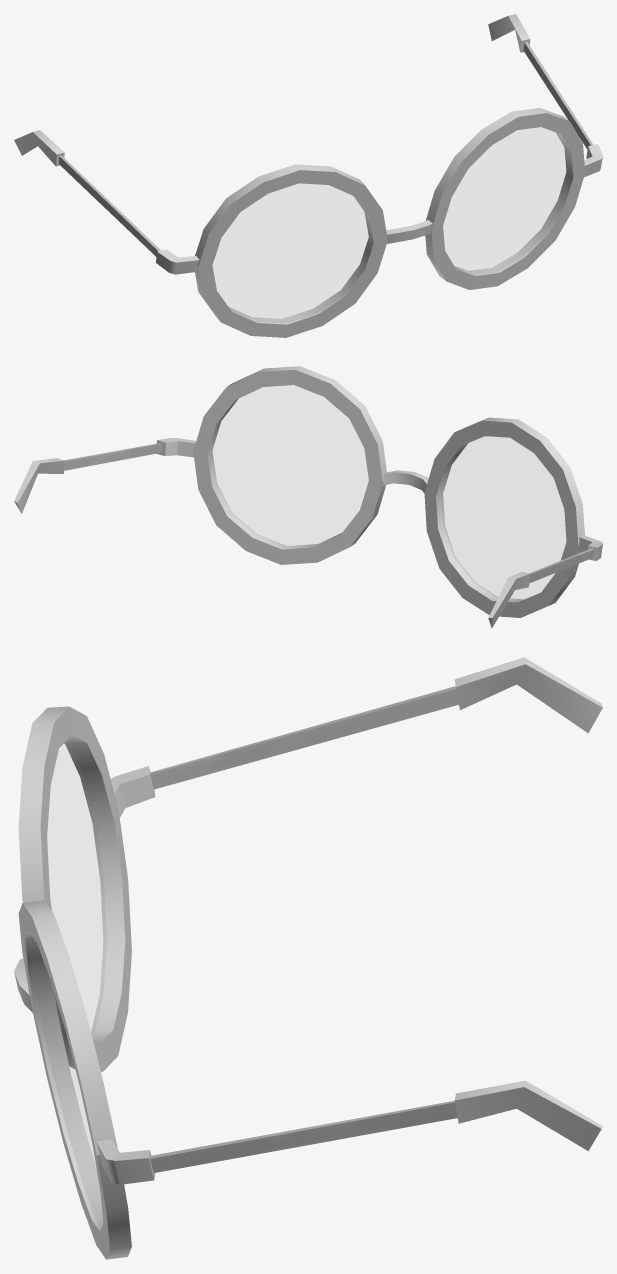
Rendered from p0_eyw0002_00_eyw00.gltf.
3 renders of one model, top to bottom at view 1: azimuth 30°, elevation 25°; view 2: azimuth 150°, elevation 25°; view 3: azimuth 270°, elevation 25°, orthographic. The views are drawn at different scales.
Visible parts, largest first — view 1: eyw00_glass_mesh_shape:eyewear, eyw00_temple_mesh_shape:eyewear; view 2: eyw00_glass_mesh_shape:eyewear, eyw00_temple_mesh_shape:eyewear; view 3: eyw00_glass_mesh_shape:eyewear, eyw00_temple_mesh_shape:eyewear.
Boxes of the visible parts, box(x1,y1,x2,y2) form: eyw00_glass_mesh_shape:eyewear: box(156, 108, 602, 337); eyw00_temple_mesh_shape:eyewear: box(14, 14, 593, 256); eyw00_glass_mesh_shape:eyewear: box(156, 366, 602, 617); eyw00_temple_mesh_shape:eyewear: box(14, 443, 594, 628); eyw00_glass_mesh_shape:eyewear: box(14, 706, 155, 1259); eyw00_temple_mesh_shape:eyewear: box(150, 657, 602, 1172).
Size of what is drawn, in the model's own units: 0.2156 by 0.0778 by 0.1248.
1 material, 1 textured.
